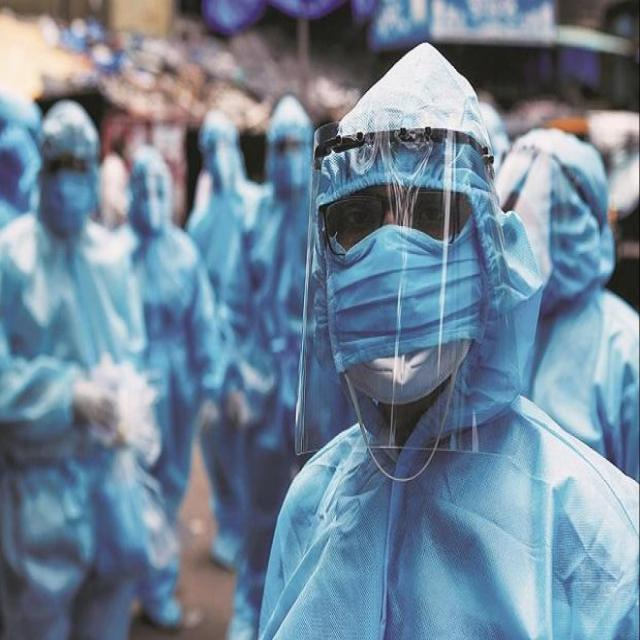Coverall: (0, 93, 192, 632), (188, 105, 259, 567), (249, 98, 323, 484)
Mask: (327, 228, 494, 365)
